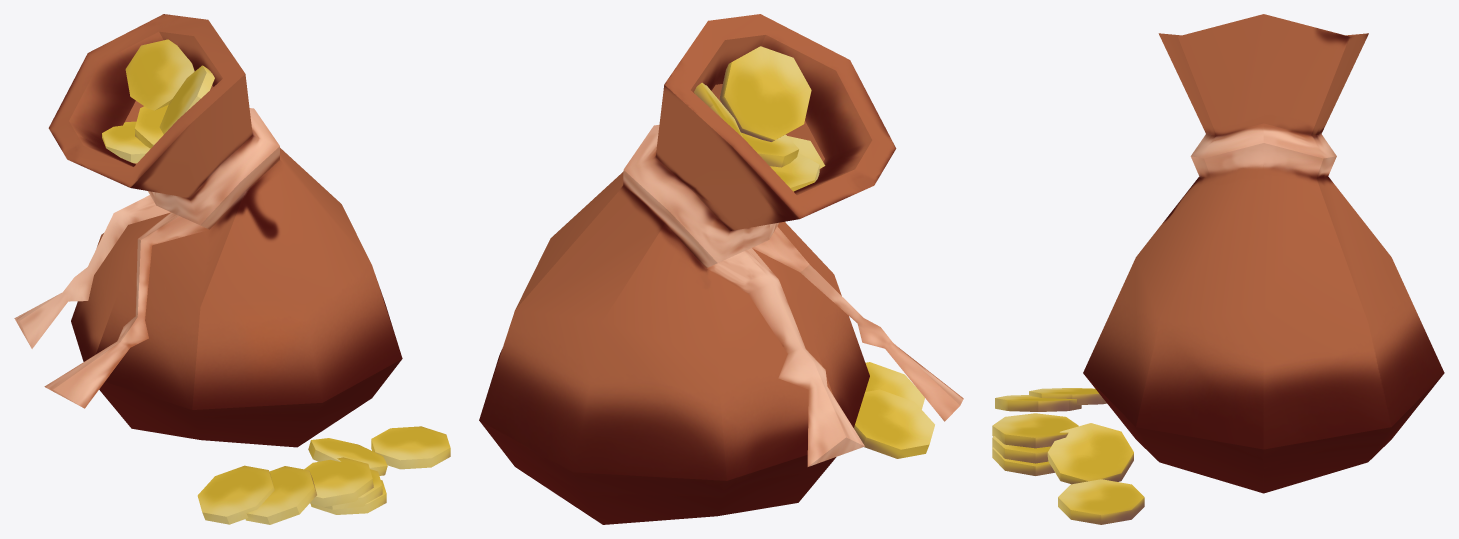
Rendered from bag_with_gold.glb.
3 views of the same model, side by side, from view 1: azimuth 30°, elevation 25°; view 2: azimuth 150°, elevation 25°; view 3: azimuth 270°, elevation 25° (orthographic). The views are drawn at different scales.
Visible parts, largest first — view 1: Cube; view 2: Cube; view 3: Cube.
Part boxes in pixels (box(x1,y1,x2,y2)): Cube: box(14, 14, 450, 524); Cube: box(479, 14, 963, 524); Cube: box(992, 14, 1444, 524).
Bounding box in the file's own units: 4.21 × 4.57 × 4.33.
1 material, 1 textured.
